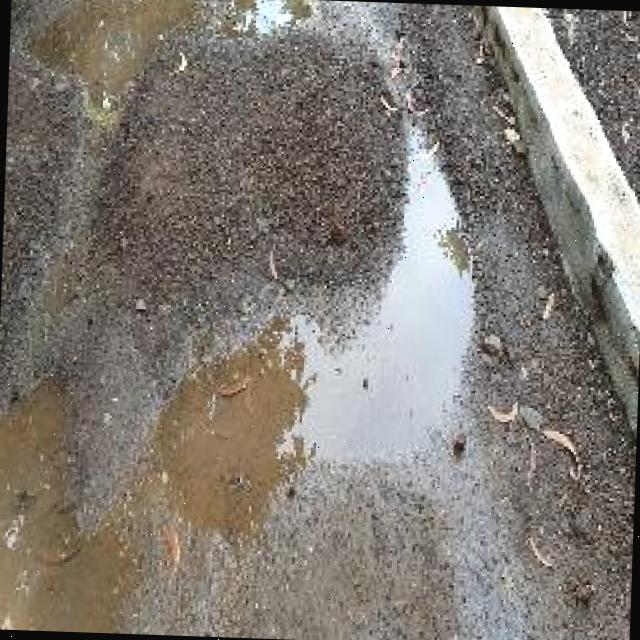waterlogging: (289, 168, 473, 472), (23, 0, 194, 107)
